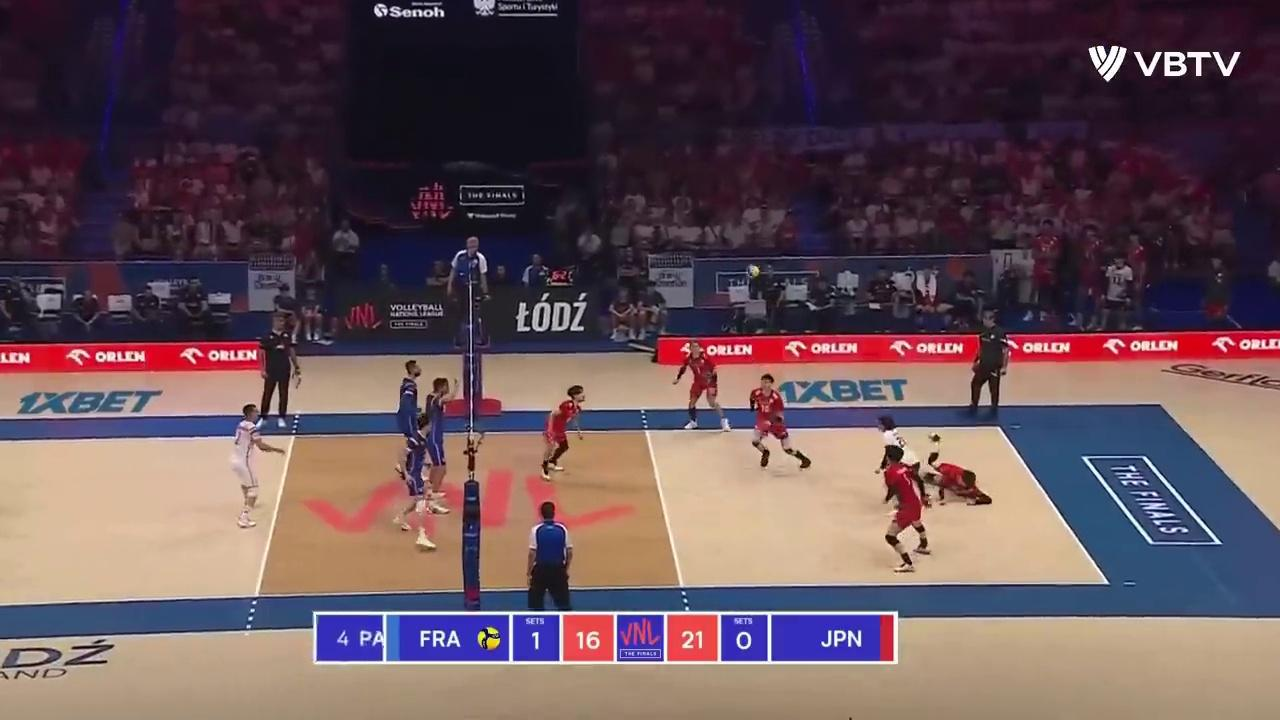ball: (746, 265, 759, 280)
